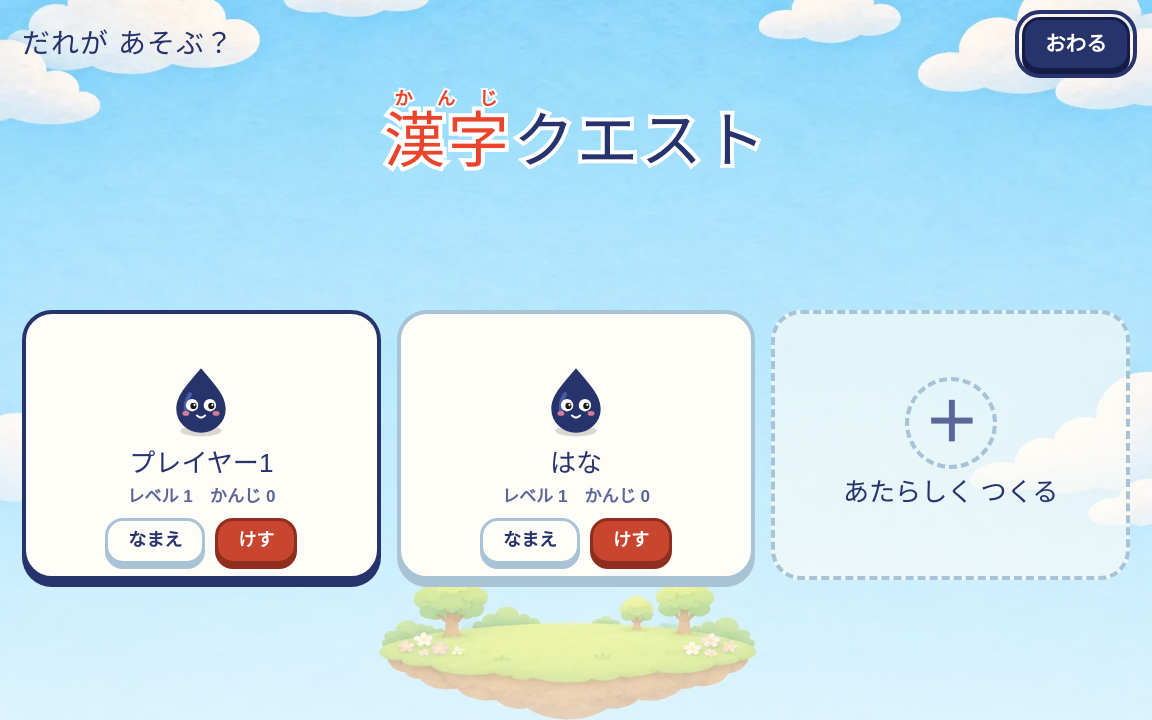
Test: 「だれが あそぶ？」の画面 › 「なおす」で、名前を変えたり 消したり できる(消す前に たしかめる)
The image size is (1152, 720).
Earlier steps of the test are not shown.
Click the button with aria-label "はな の なまえを かえる". click: {"x": 530, "y": 541}
box: x1=480 y1=518 x2=580 y2=564
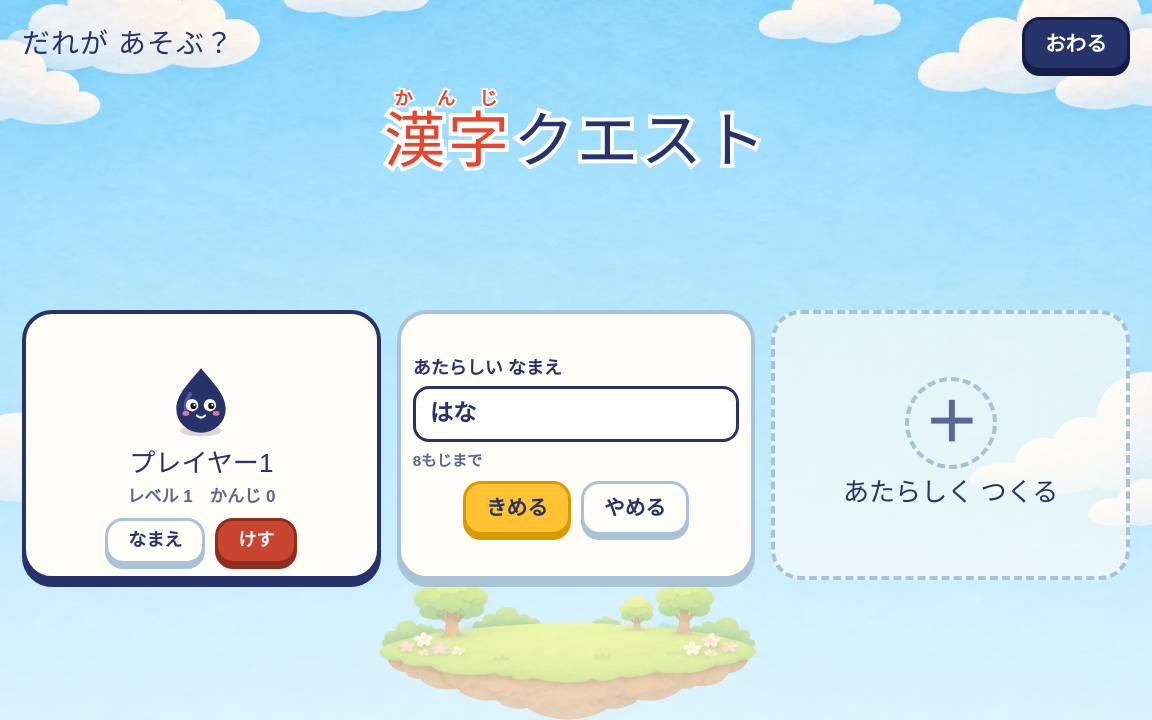
Replace the text in the field labelled "あたらしい なまえ" with "さくら". click: {"x": 576, "y": 414}
box: x1=413 y1=386 x2=739 y2=442
Click the button "きめる". click: {"x": 517, "y": 508}
box: x1=463 y1=481 x2=571 y2=535
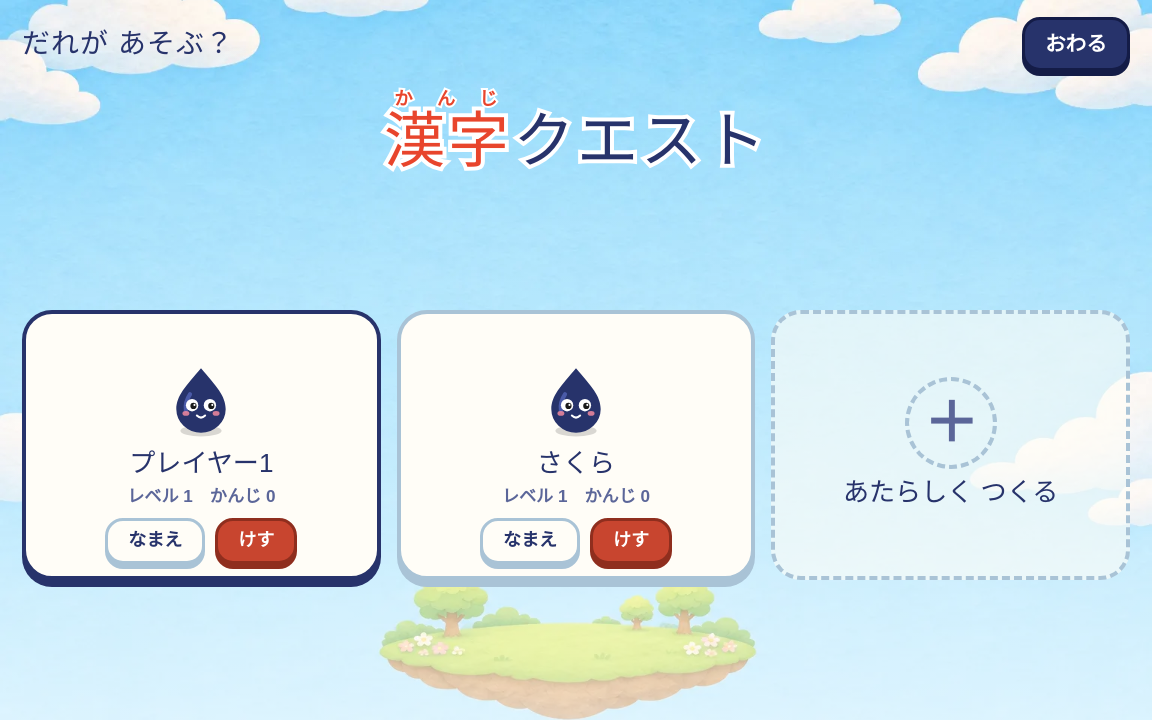
Now the button with aria-label "さくら で あそぶ" is shown, box x1=413 y1=326 x2=739 y2=510
Click the button with aria-label "さくら を けす". click: {"x": 631, "y": 541}
box: x1=590 y1=518 x2=672 y2=564
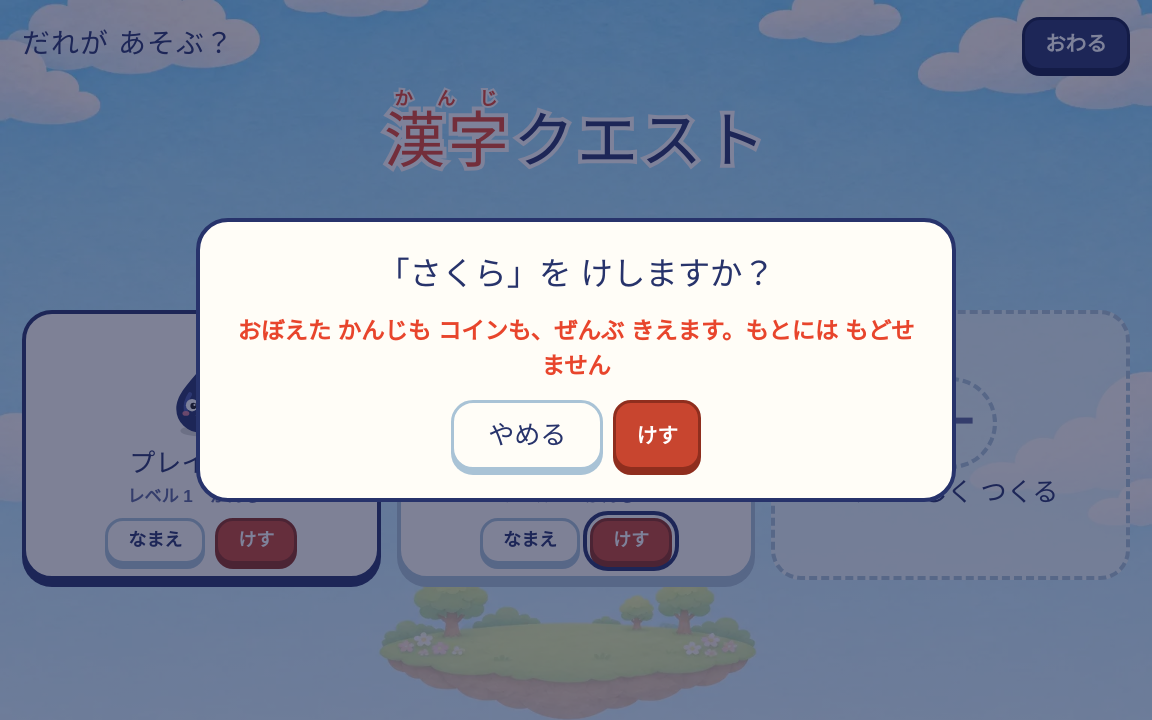
Click the button "やめる". click: {"x": 527, "y": 435}
box: x1=451 y1=400 x2=604 y2=470
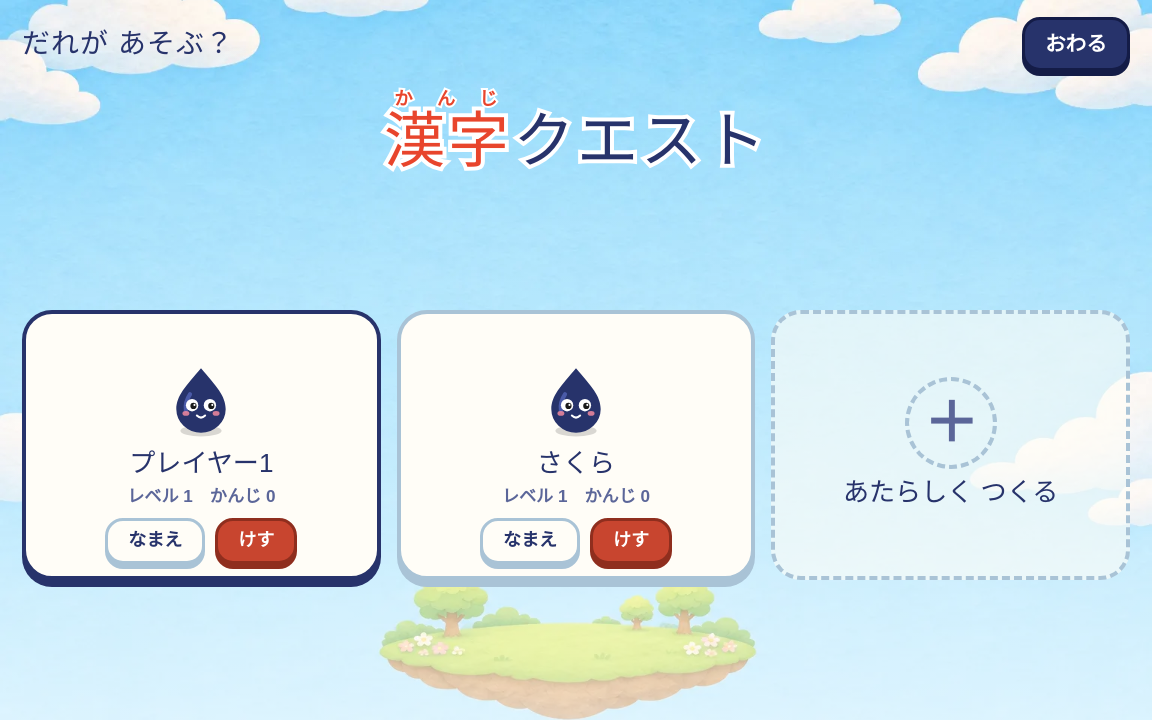
Click the button with aria-label "さくら を けす". click: {"x": 631, "y": 541}
box: x1=590 y1=518 x2=672 y2=564
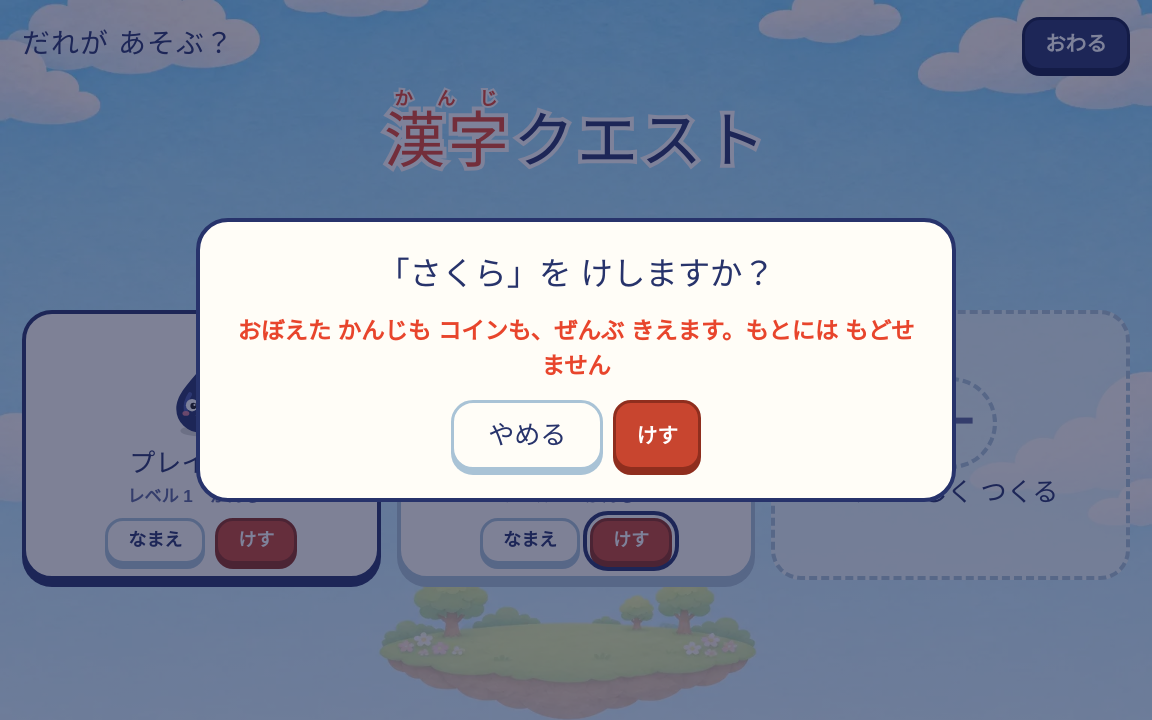
Click the button "けす". click: {"x": 657, "y": 435}
box: x1=613 y1=400 x2=701 y2=470
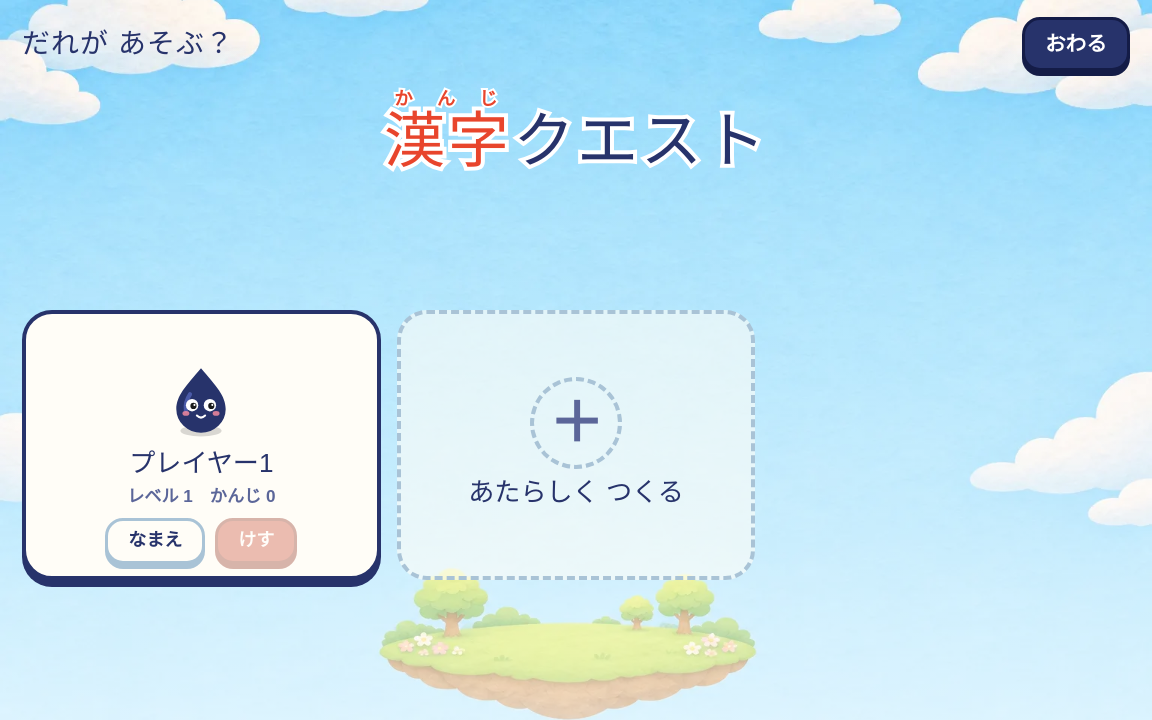
Now the button with aria-label "プレイヤー1 を けす" is disabled, box x1=215 y1=518 x2=297 y2=564
